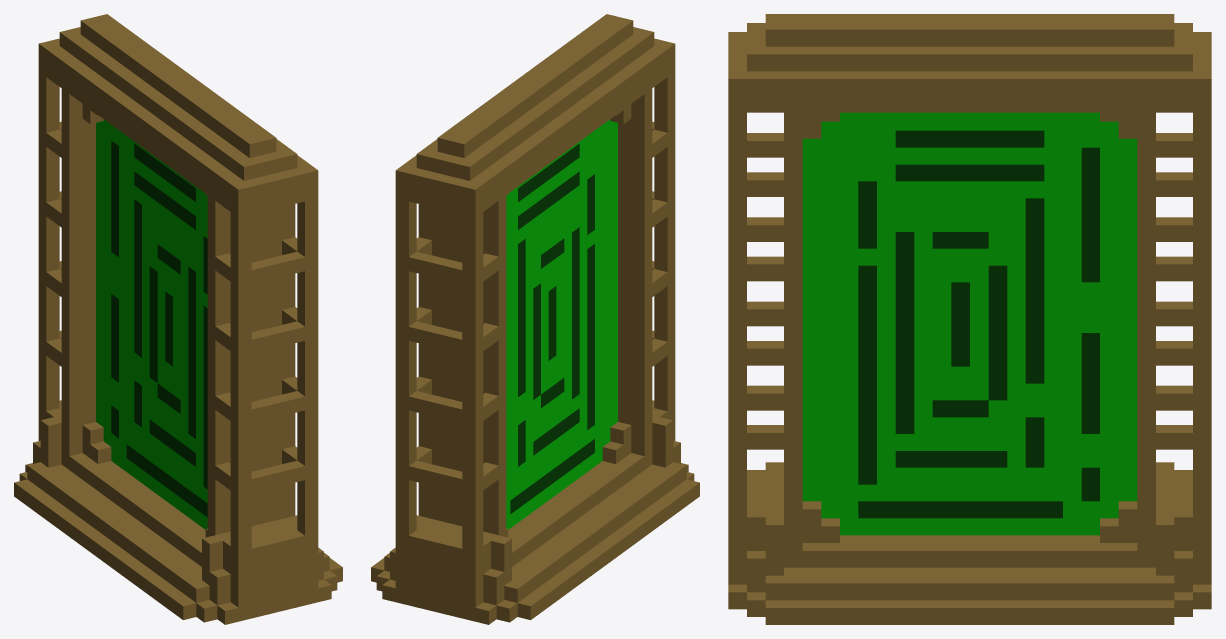
The model's file is PortalMundo0.obj.
3 renders of one model, left to right at view 1: azimuth 30°, elevation 25°; view 2: azimuth 150°, elevation 25°; view 3: azimuth 270°, elevation 25°, orthographic. The views are drawn at different scales.
Size of the model in its own units: 1.2 by 3.3 by 2.6.
Materials: 1 (1 with a texture image).
